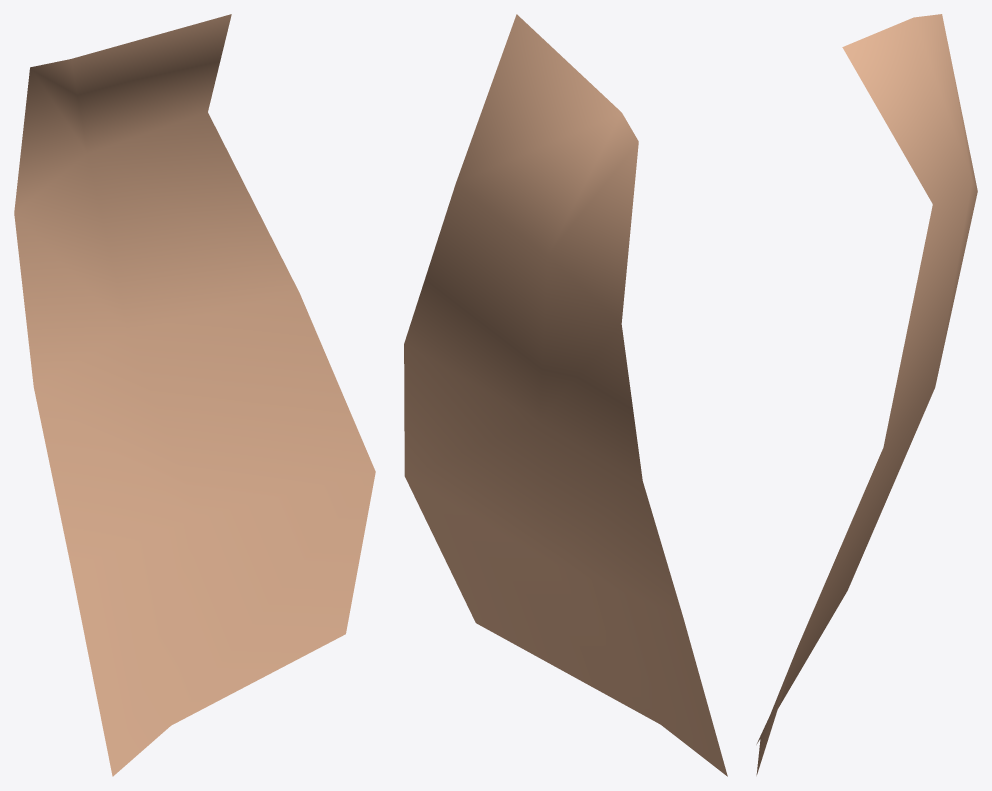
The model's file is philtrum-l.glb.
The picture shows the model from 3 angles, left to right: view 1: azimuth 30°, elevation 25°; view 2: azimuth 150°, elevation 25°; view 3: azimuth 270°, elevation 25°; orthographic projection. The views are drawn at different scales.
Visible parts, largest first — view 1: Philtrum.l; view 2: Philtrum.l; view 3: Philtrum.l.
Part boxes in pixels (x1,y1,x2,y2): Philtrum.l: (14,14,375,776); Philtrum.l: (404,14,727,776); Philtrum.l: (756,14,977,775).
Bounding box in the file's own units: 0.00454 × 0.0107 × 0.00275.
